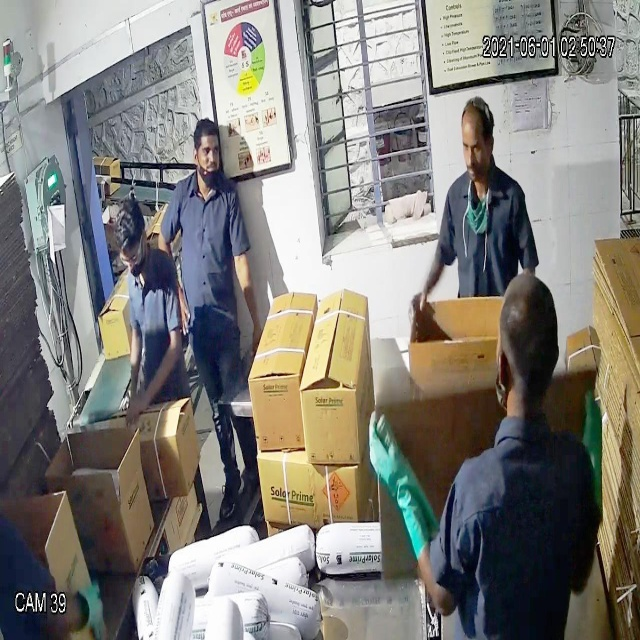Gafas: (111, 235, 151, 270)
Sin_gafas: (458, 129, 500, 161)
